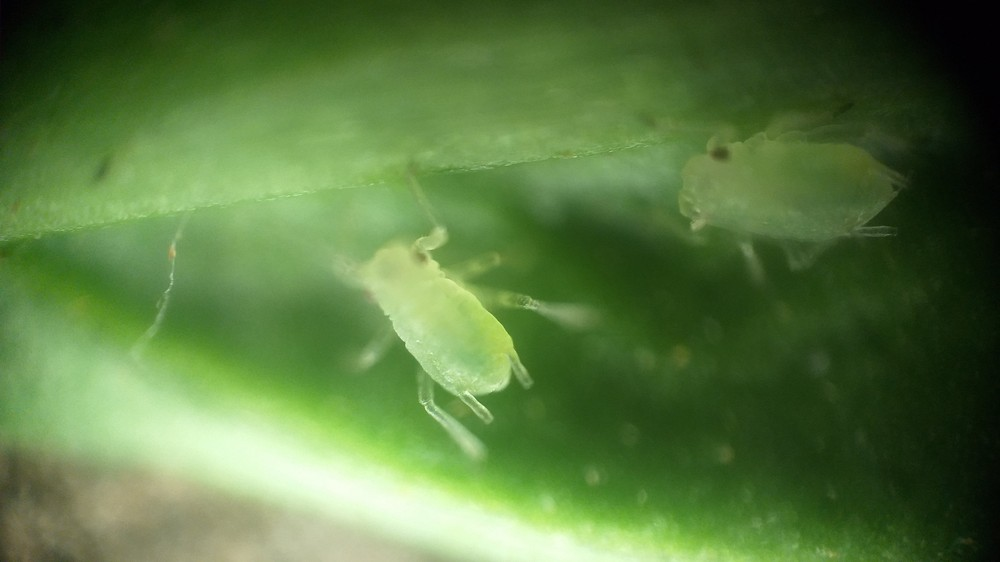Pulgon: (310, 192, 599, 470), (653, 95, 944, 297)
